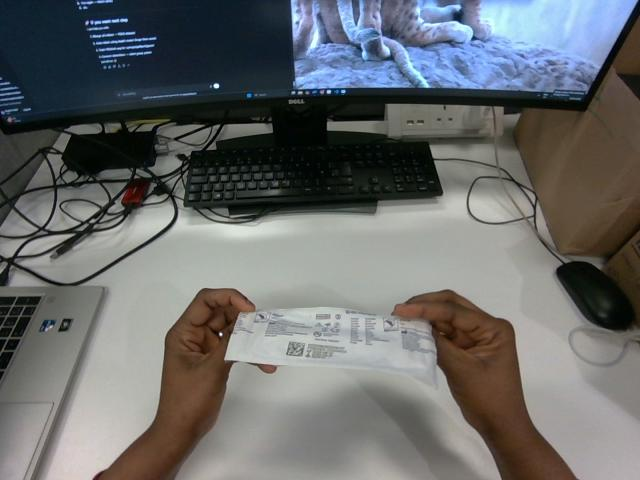syringe: (225, 307, 436, 386)
